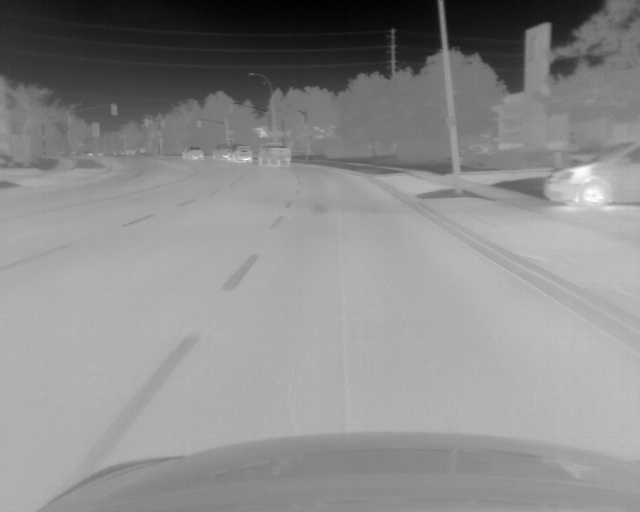car: (540, 139, 640, 210), (256, 142, 291, 166), (230, 145, 254, 162), (181, 145, 204, 161), (212, 145, 235, 160)
